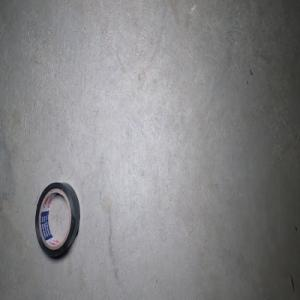Tape: (35, 182, 80, 259)
